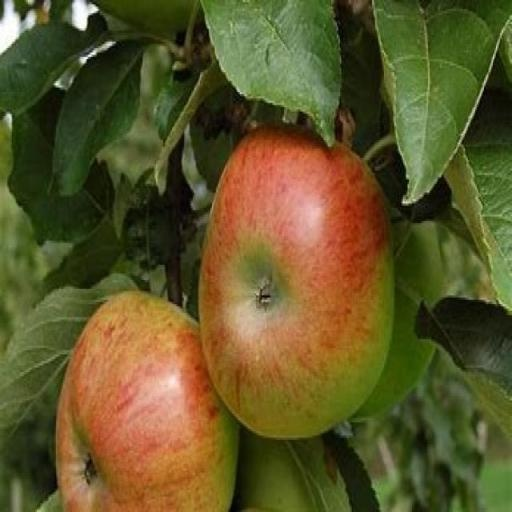fruit: (91, 238, 376, 512), (255, 254, 436, 512), (327, 156, 455, 512), (401, 145, 481, 448), (38, 0, 358, 4)
